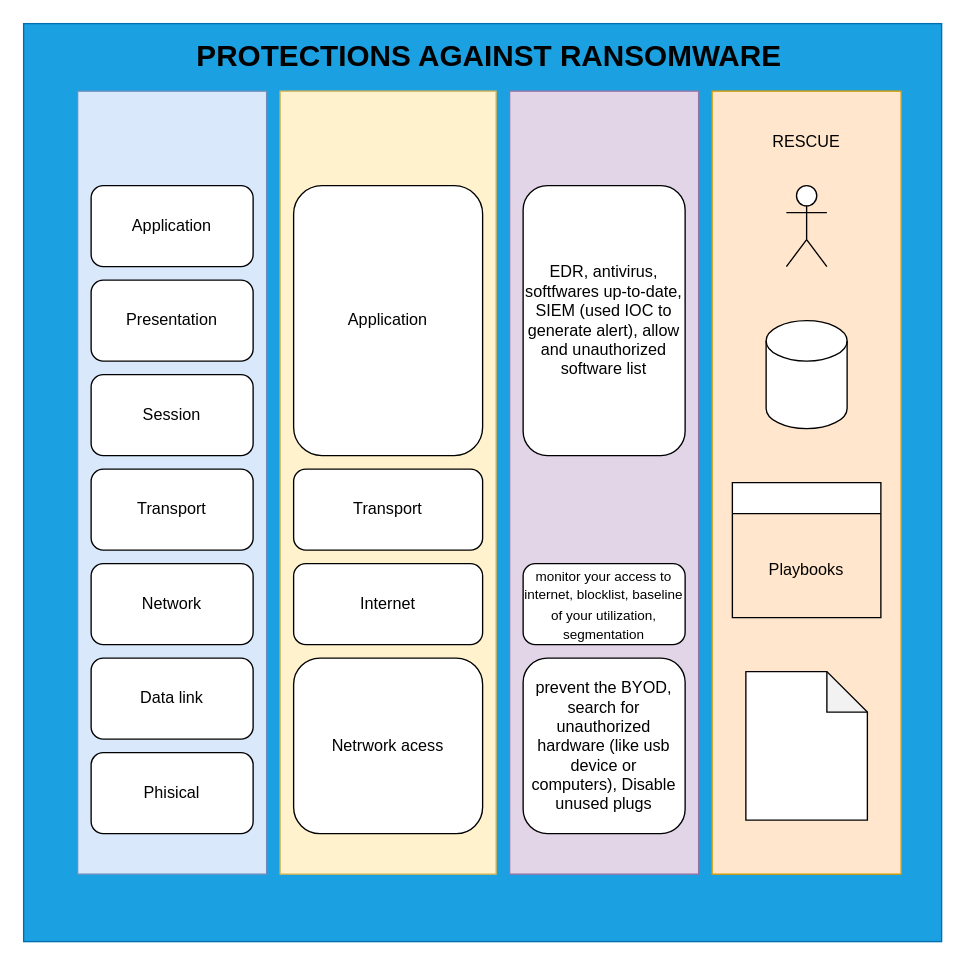
Some shapes in this 965 by 965 pixel diagram are drawn without their labels. The box of each missing label's shape, as (x1, y1, x2, y2) in pixels:
Backups: (765, 319, 847, 429)
incident response procedures: (745, 670, 867, 820)
ISO MODEL: (76, 90, 267, 874)
PROTECTION: (508, 90, 699, 874)
sensitized personnel: (785, 184, 827, 267)
SOAR: (731, 481, 881, 618)
TCP/IP MODEL: (279, 90, 496, 874)
